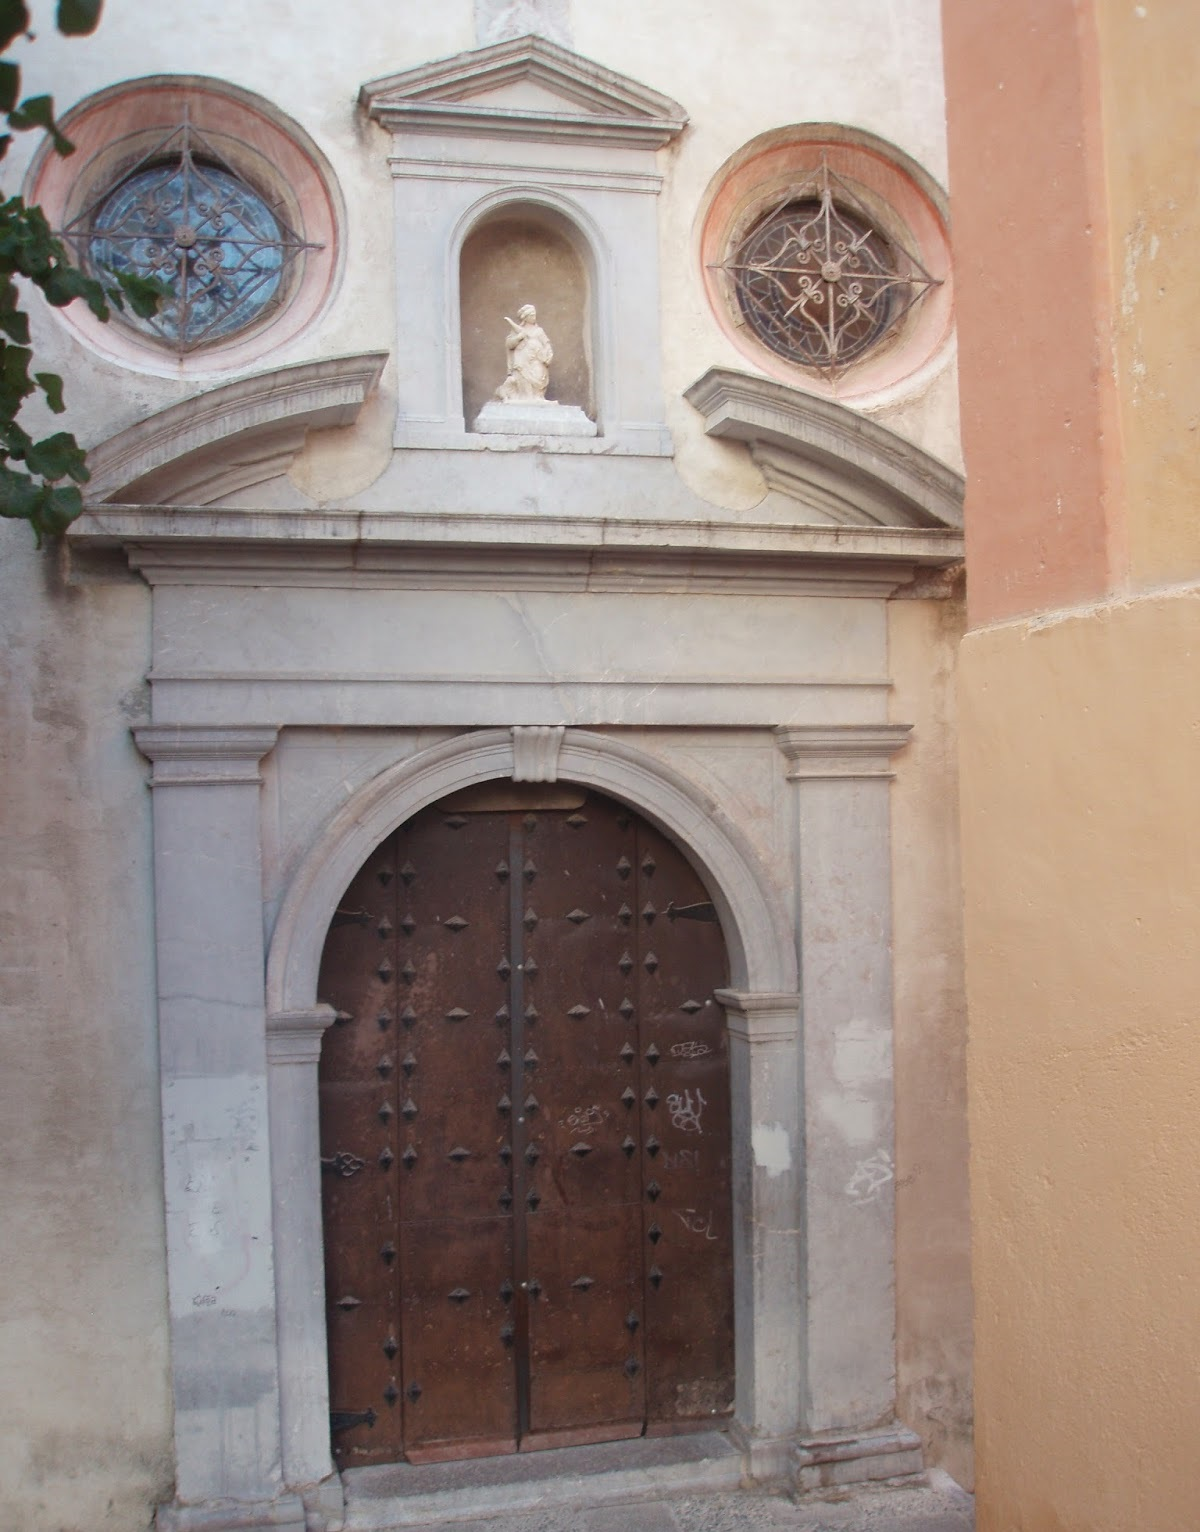arco-medio-punto: (306, 762, 773, 1051), (455, 182, 608, 288)
fronton: (349, 27, 698, 148)
fronton-partido: (48, 354, 977, 566)
